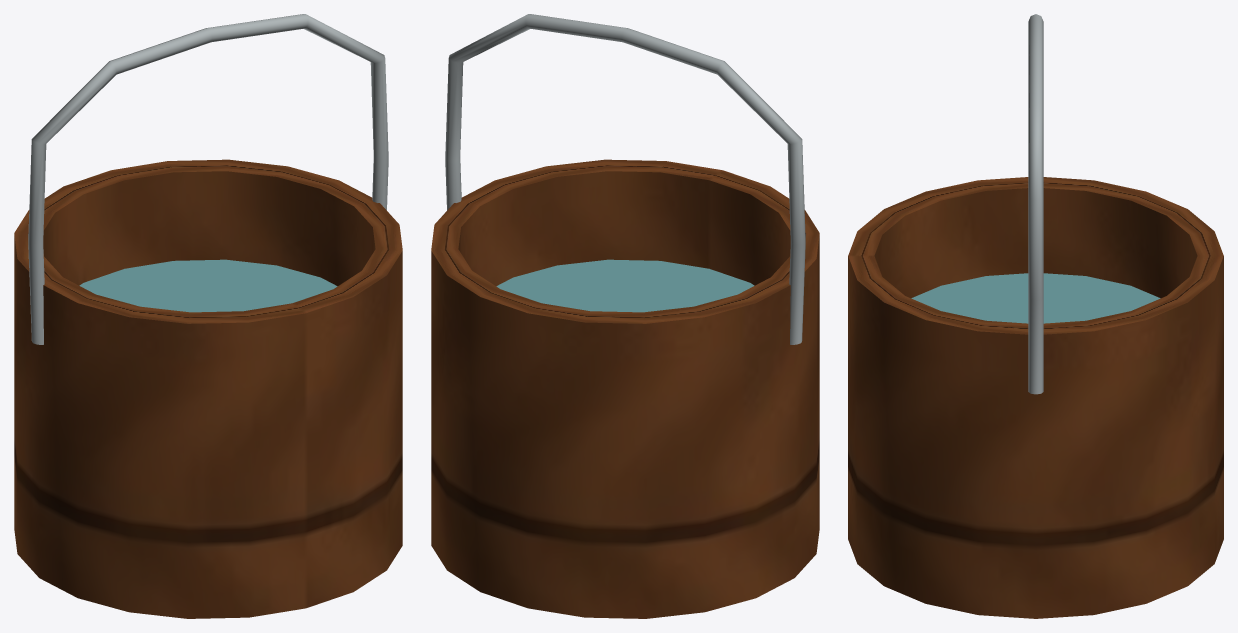
File: survival-food-and-preservation-brine-bucket-bbbeff4e__21785.glb
3 views of the same model, side by side, from view 1: azimuth 30°, elevation 25°; view 2: azimuth 150°, elevation 25°; view 3: azimuth 270°, elevation 25° (orthographic). The views are drawn at different scales.
Parts seen in each view (by area): view 1: brine-bucket; view 2: brine-bucket; view 3: brine-bucket.
Boxes of the visible parts, <box> form: brine-bucket: <box>14,14,402,618</box>; brine-bucket: <box>431,14,819,618</box>; brine-bucket: <box>848,14,1223,618</box>.
Bounding box in the file's own units: 0.3183 × 0.431 × 0.3.
3 materials, 1 textured.
